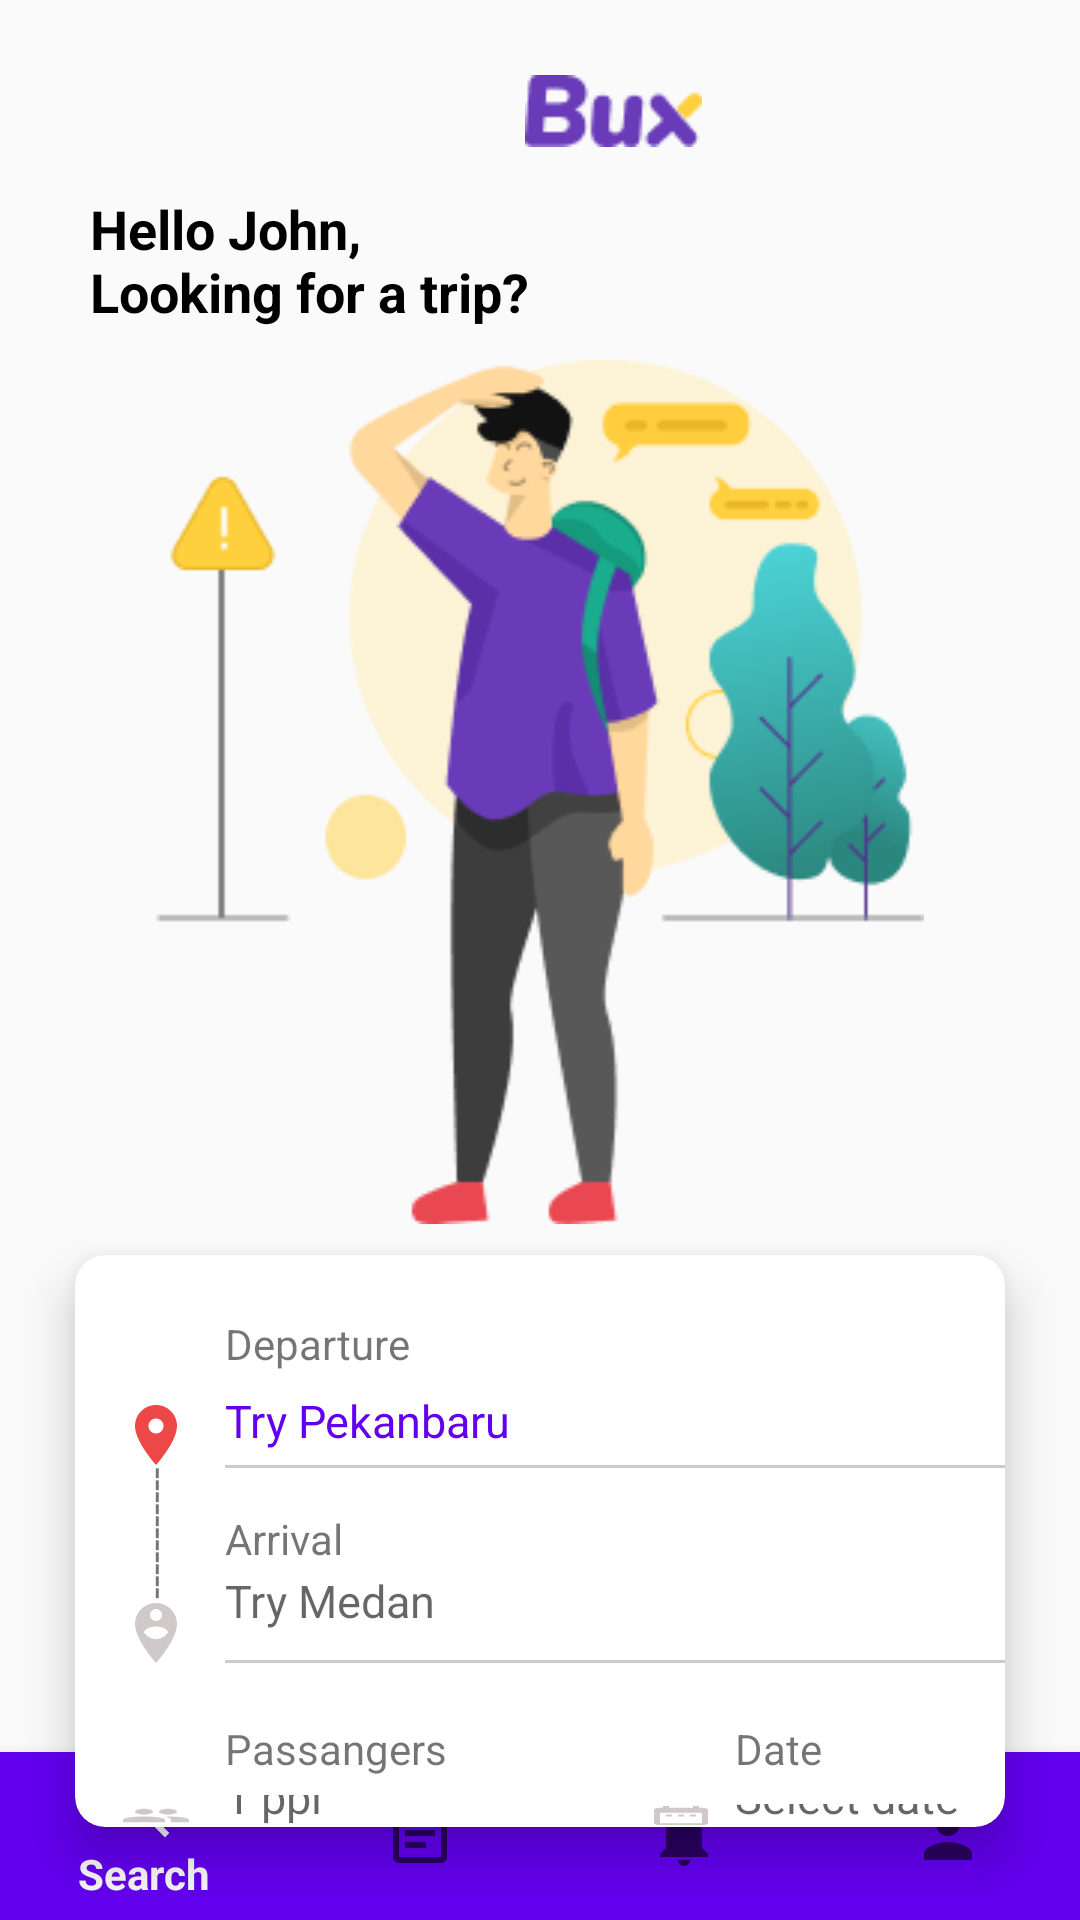

Where icons sit on this 1080 x 1920 app screen, as (left=x1, top=y1, right=x2, bottom=y2):
location: (left=135, top=1405, right=177, bottom=1465)
person pin circle: (left=135, top=1603, right=177, bottom=1662)
